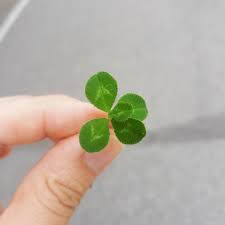4-clover: (78, 72, 149, 153)
